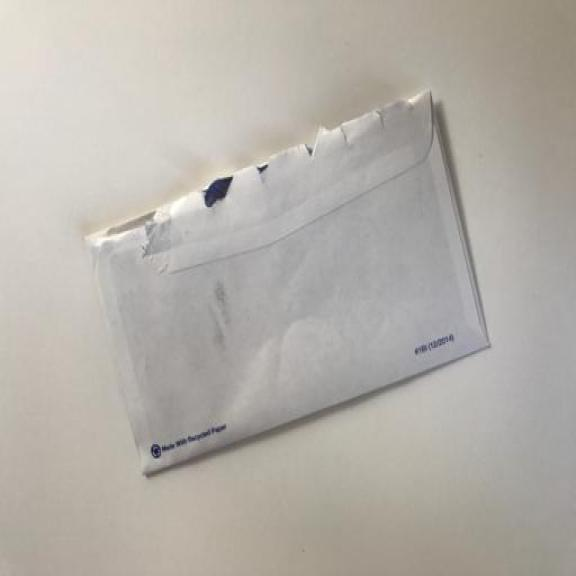Kertas: (86, 90, 488, 479)
